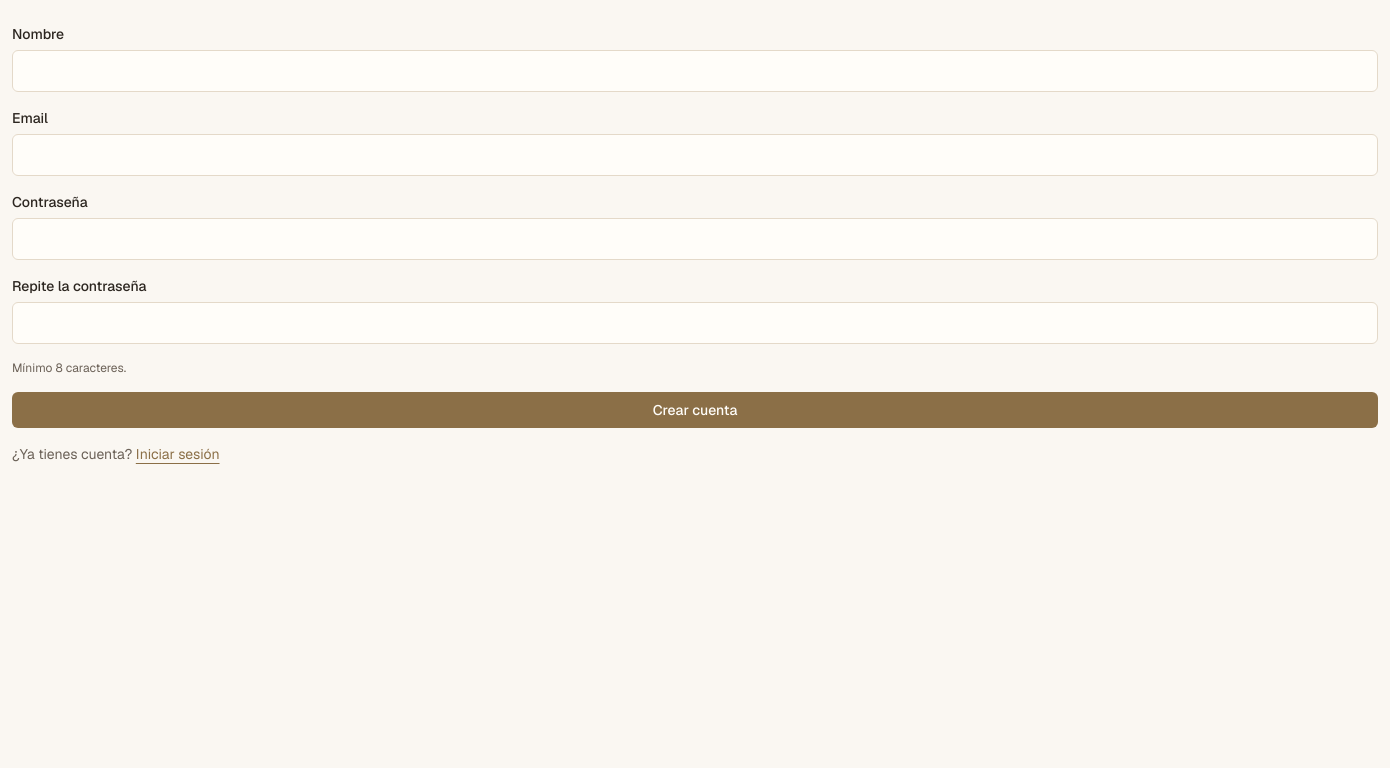
it: RegistroForm › submit_invalido_no_llama_a_apiRegister_y_pinta_los_errores
Type "no-es-un-email" into the field labelled "Email" at (695, 155), box [12, 134, 1378, 176]
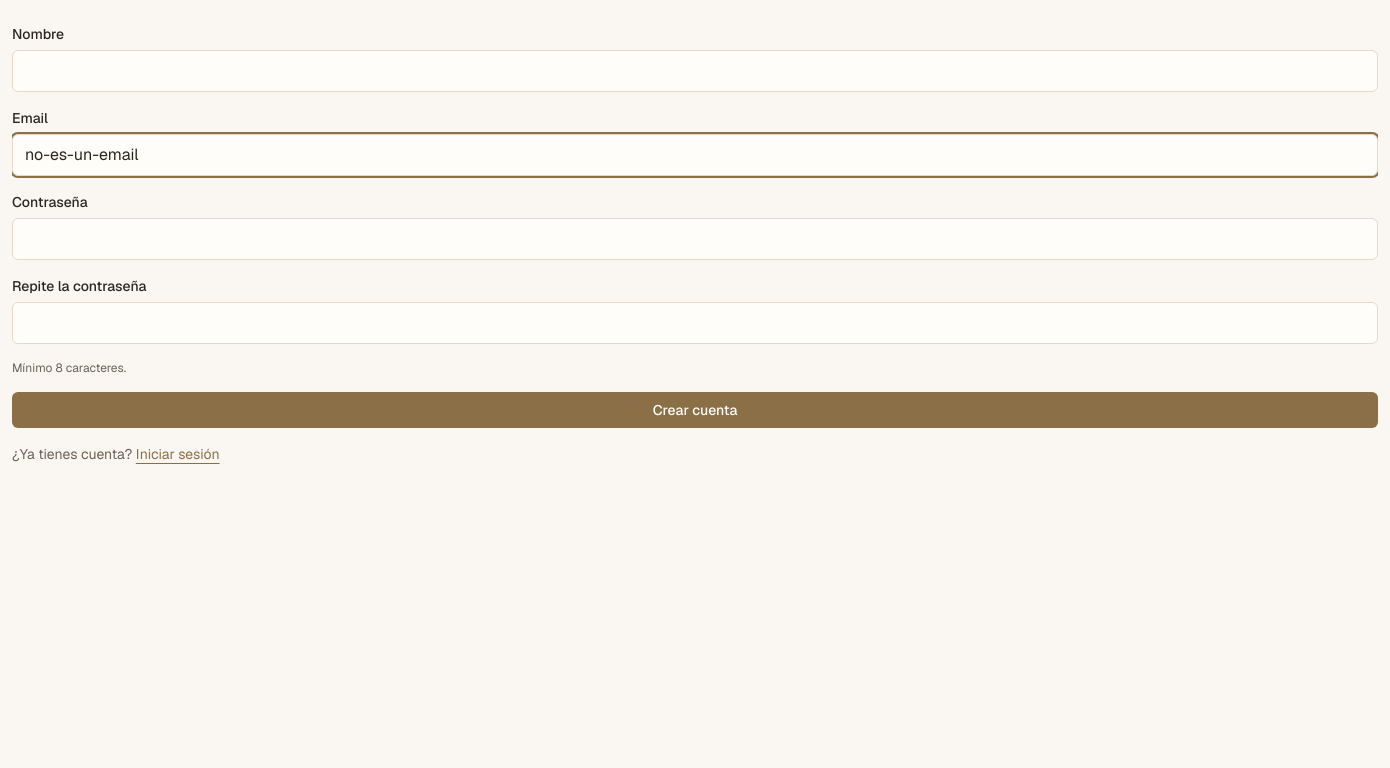
Type "corta" into the password field labelled "Contraseña" at (695, 239), box [12, 218, 1378, 260]
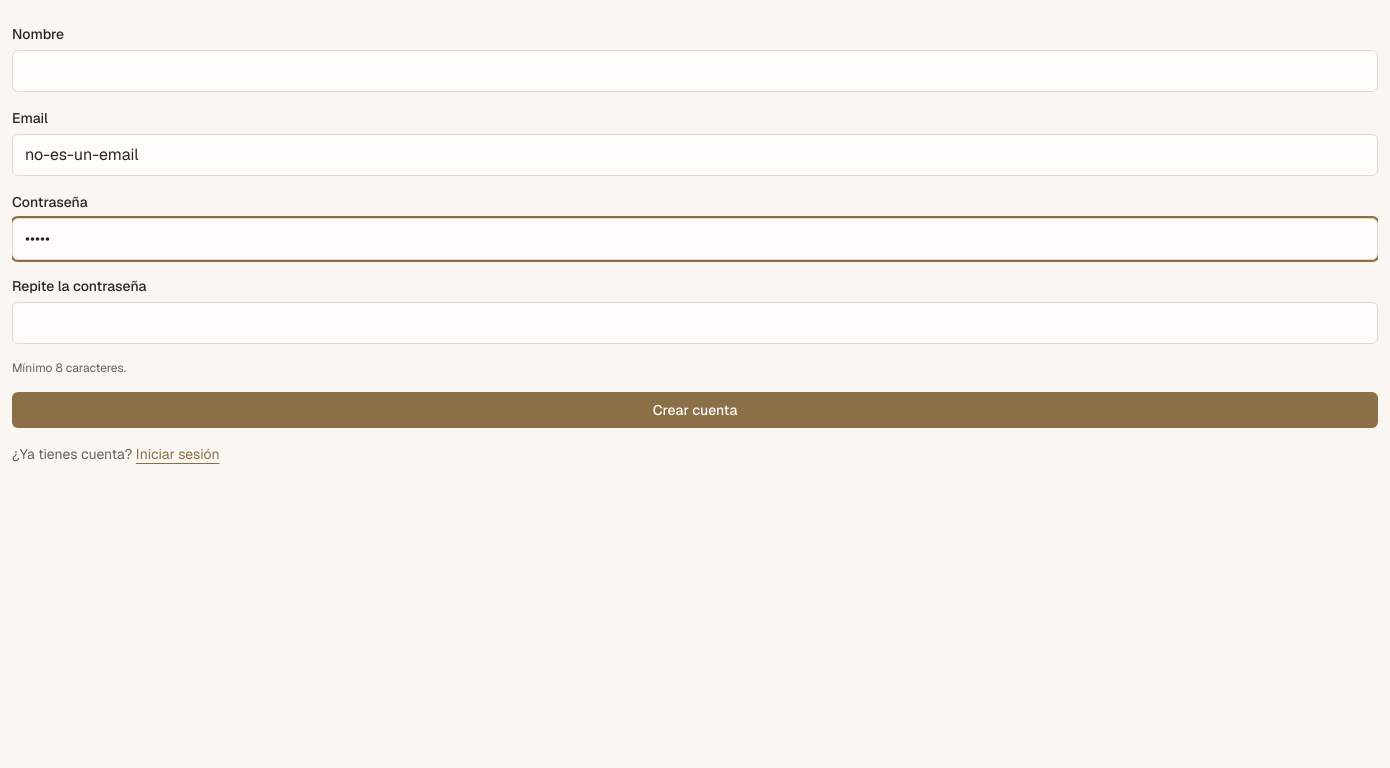
Type "distinta" into the password field labelled "Repite la contraseña" at (695, 323), box [12, 302, 1378, 344]
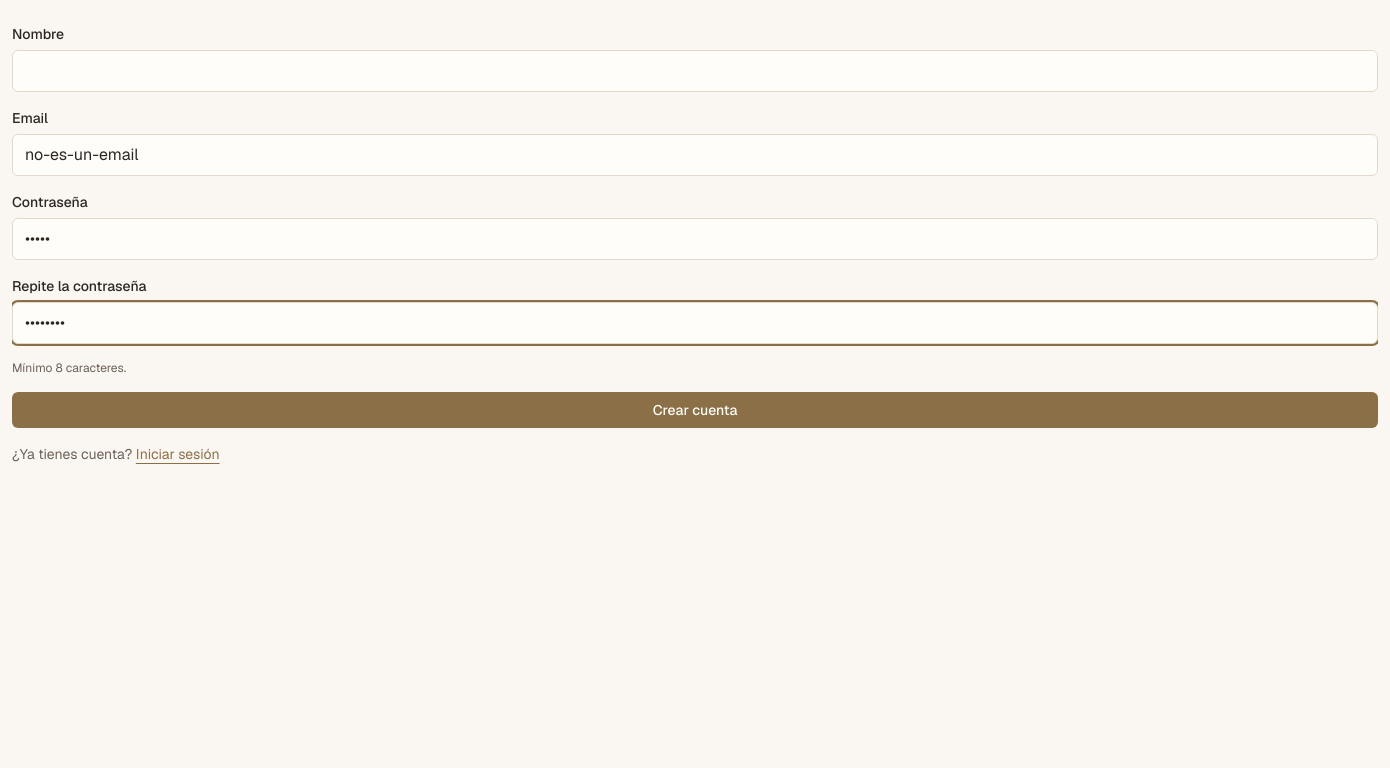
Click the button "Crear cuenta" at (695, 410), box [12, 392, 1378, 428]
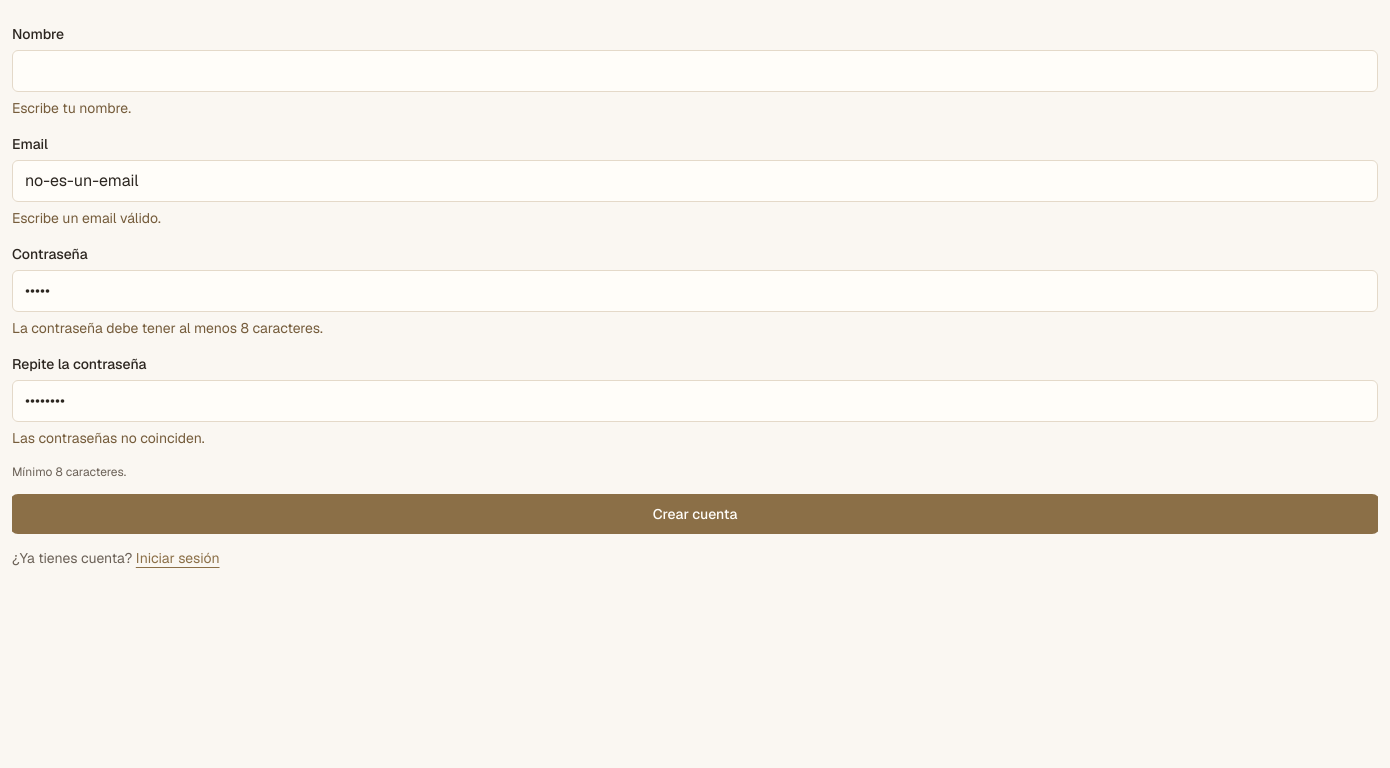
expect the text "Escribe tu nombre." is shown: met, box [12, 99, 131, 117]
expect the text "Escribe un email válido." is shown: met, box [12, 209, 161, 227]
expect the text "La contraseña debe tener al menos 8 caracteres." is shown: met, box [12, 319, 323, 337]
